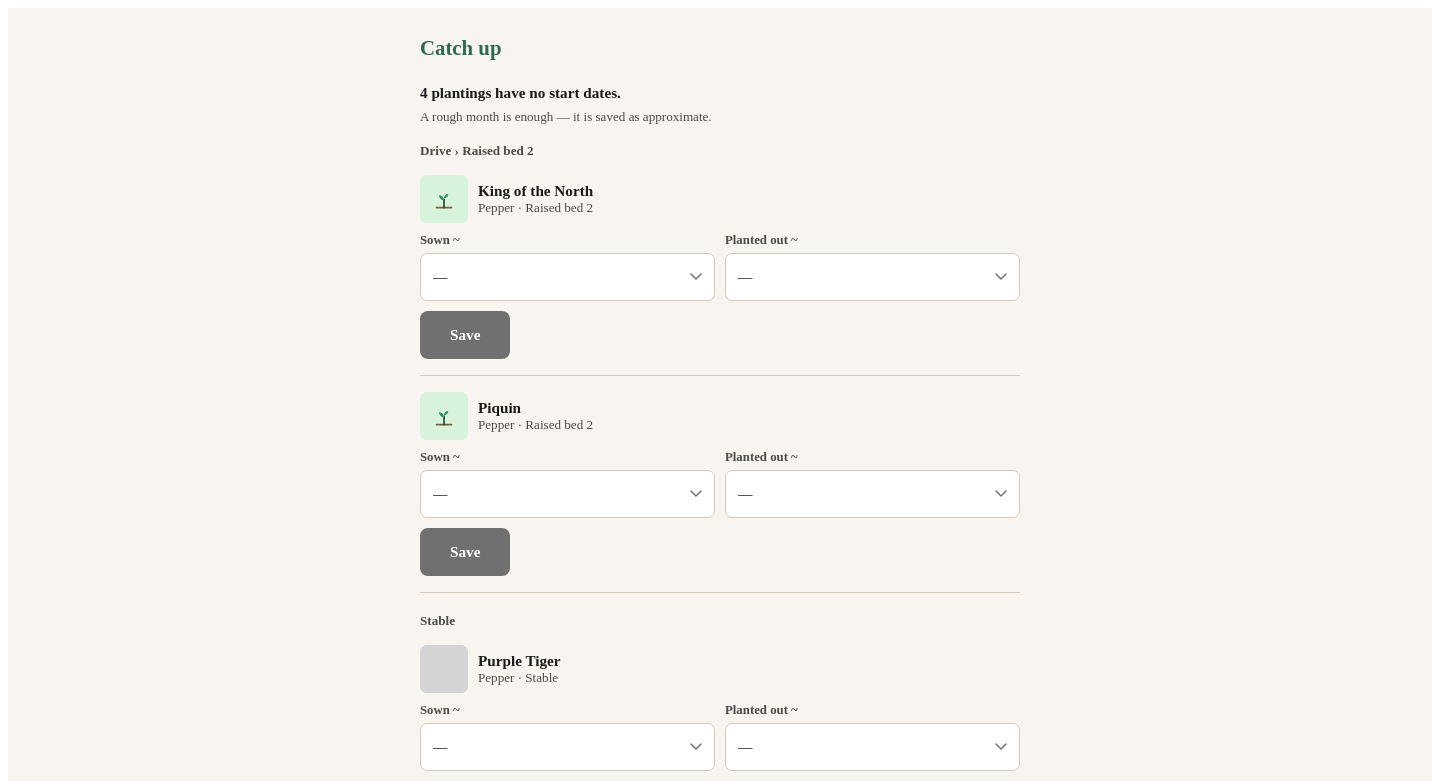
Test: saving a row › a failed save says Didn’t save on that row only, and Try again resends the same body
The image size is (1440, 781).
Expected: the text "4 plantings have no start dates." is shown, [420,84,621,101]
Select "Feb 2026" in the dropdown labelled "Sown ~" below "Piquin" at (568, 494), box [420,470,715,518]
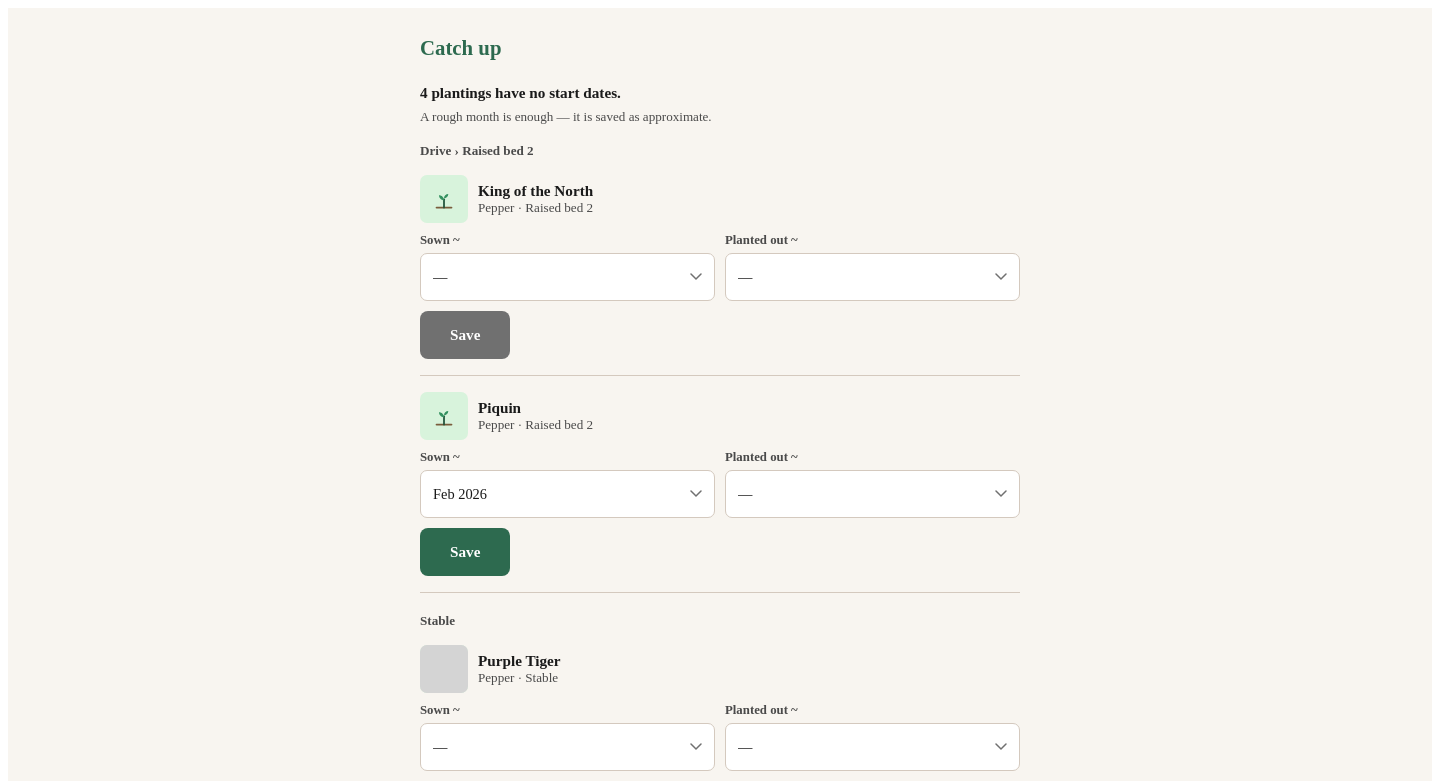
Click the button "Save" below "Piquin" at (465, 552), box [420,528,510,576]
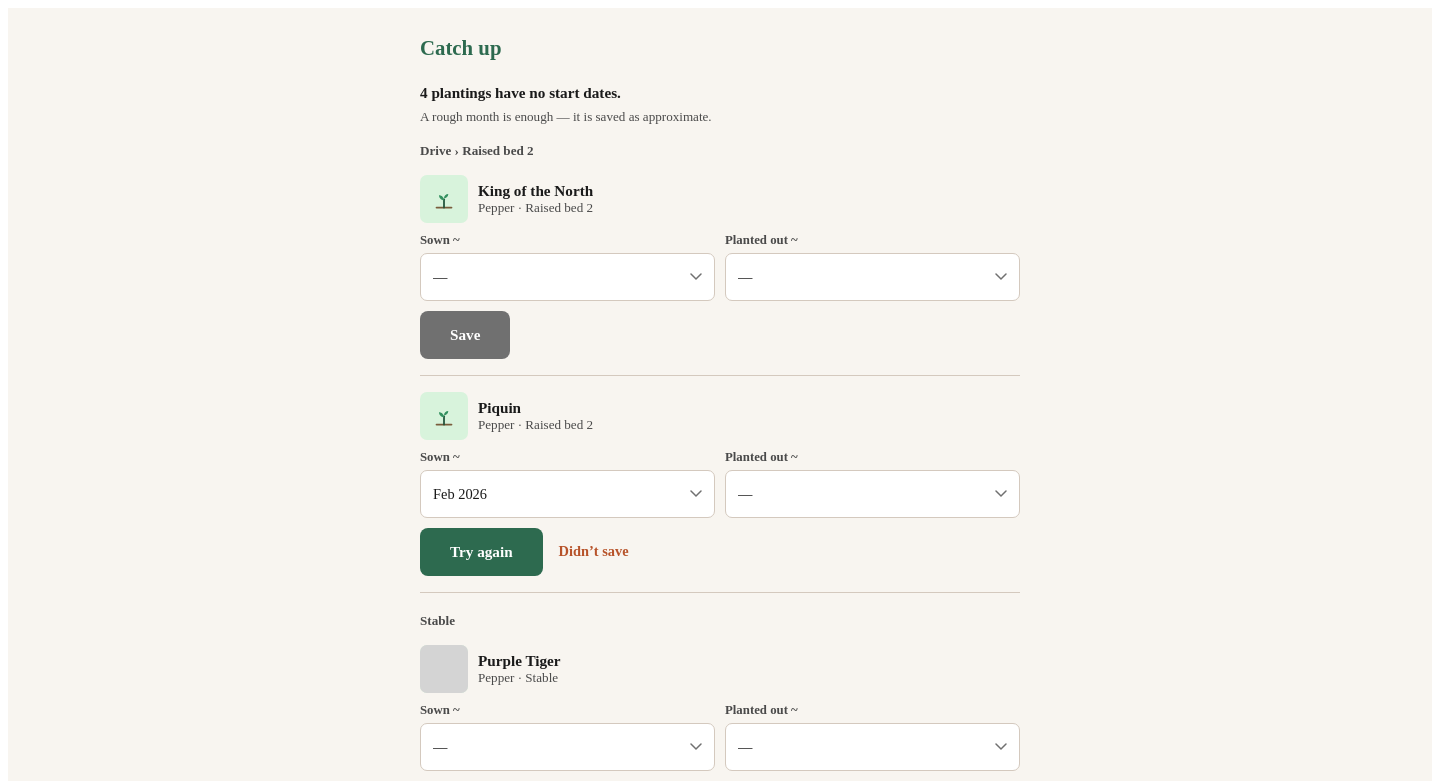
Expected: the text "Didn’t save" is shown, [559,543,629,560]
Expected: the button "Try again" is shown
Click the button "Try again" at (481, 552), box [420,528,543,576]
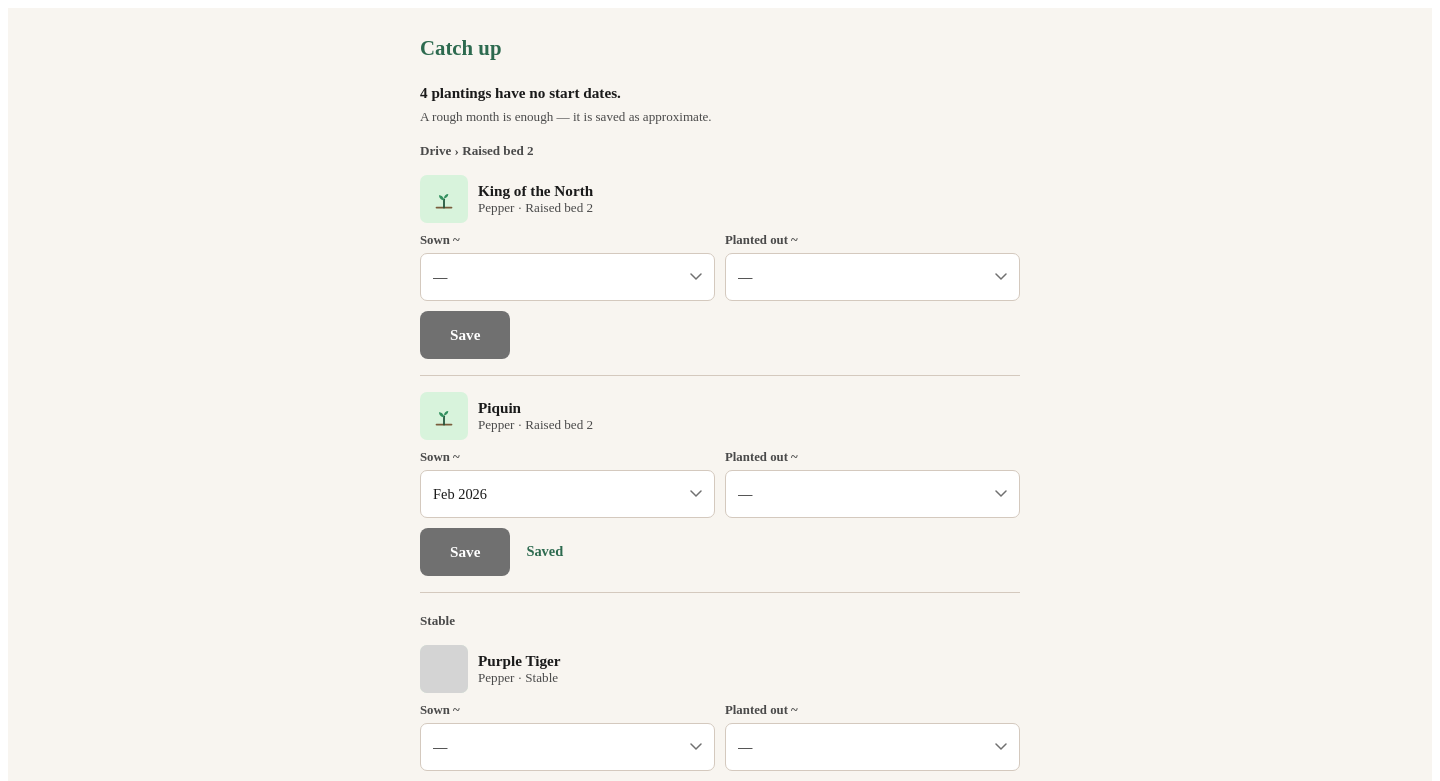
Expected: the text "Saved" is shown, [526,543,563,560]
